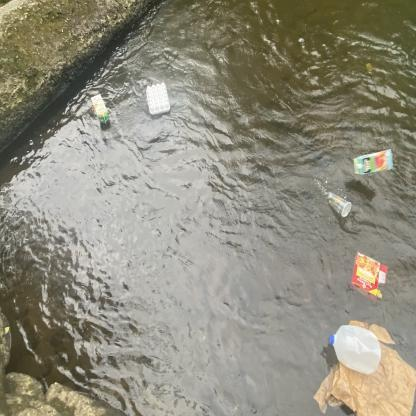trash: (310, 318, 416, 416), (324, 320, 378, 376), (349, 248, 389, 306), (350, 146, 396, 178), (324, 184, 353, 223), (142, 81, 172, 117), (90, 90, 112, 127)
